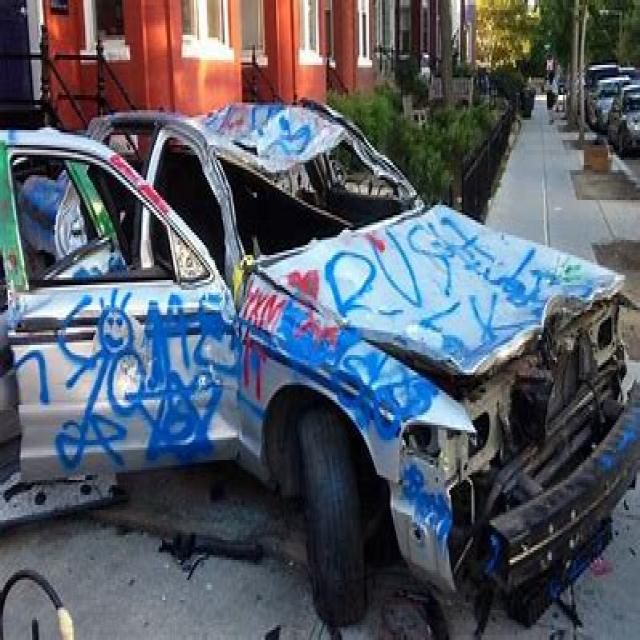Accident: (117, 80, 640, 595)
